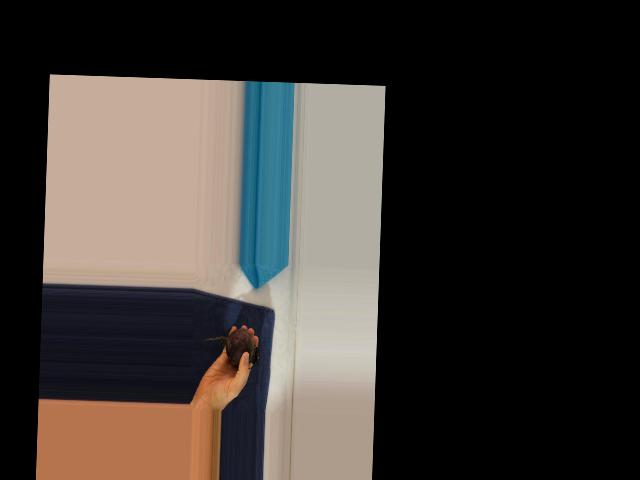beet: (201, 327, 260, 369)
